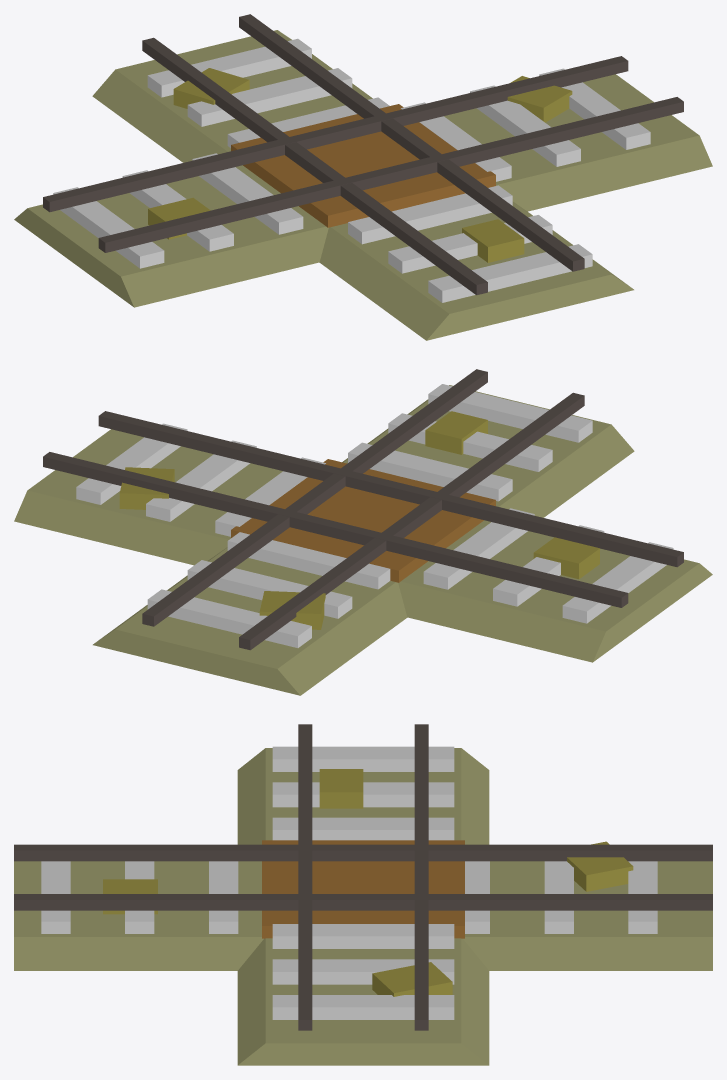
File: SM_Via_Cruce_v2_Maleza_LOD1.fbx
3 views of the same model, one above another, from view 1: azimuth 30°, elevation 25°; view 2: azimuth 150°, elevation 25°; view 3: azimuth 270°, elevation 25° (orthographic). The views are drawn at different scales.
Parts seen in each view (by area): view 1: SM_via_trazado_v42_LOD1; view 2: SM_via_trazado_v42_LOD1; view 3: SM_via_trazado_v42_LOD1.
Part boxes in pixels (x1=…): SM_via_trazado_v42_LOD1: x1=14, y1=14, x2=712, y2=340; SM_via_trazado_v42_LOD1: x1=14, y1=369, x2=712, y2=695; SM_via_trazado_v42_LOD1: x1=14, y1=724, x2=712, y2=1065.
Bounding box in the file's own units: 10 × 0.722 × 10.
